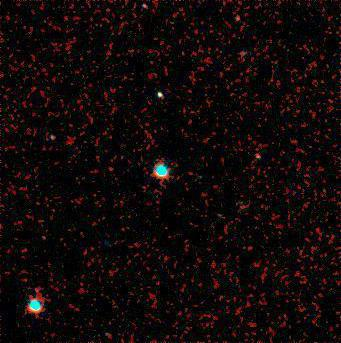star: (31, 223, 61, 253)
